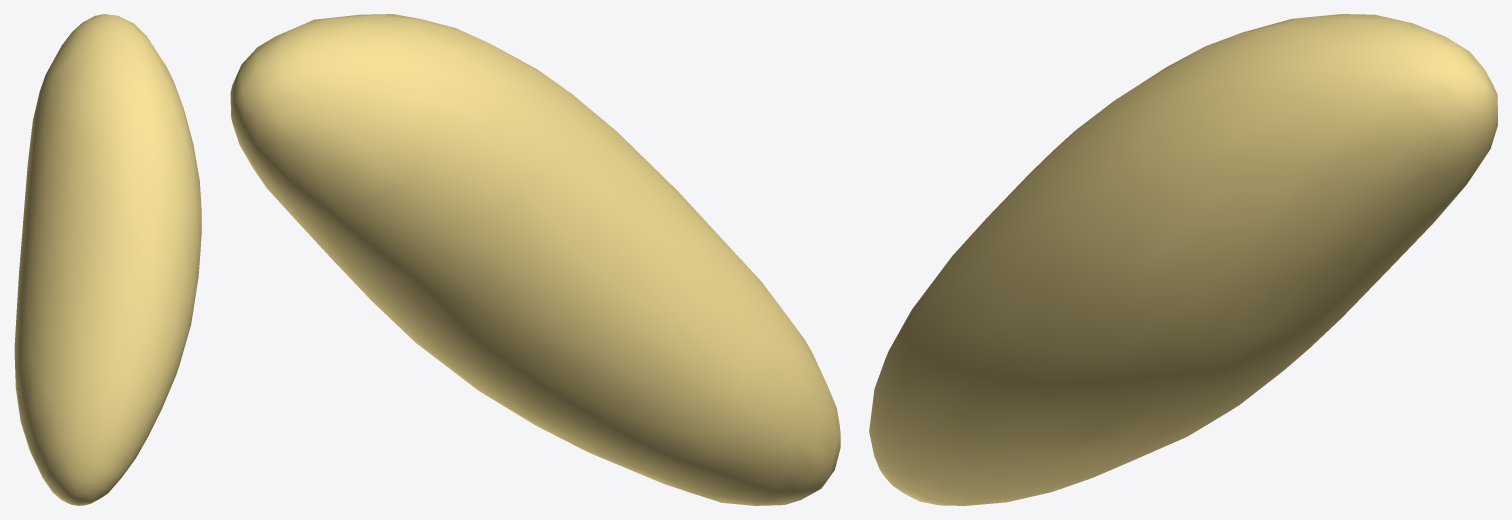
File: fma53476_mm2600m.glb
3 views of the same model, side by side, from view 1: azimuth 30°, elevation 25°; view 2: azimuth 150°, elevation 25°; view 3: azimuth 270°, elevation 25° (orthographic). The views are drawn at different scales.
Visible parts, largest first — view 1: FMA53476_MM2600M; view 2: FMA53476_MM2600M; view 3: FMA53476_MM2600M.
Part boxes in pixels (x1,y1,x2,y2): FMA53476_MM2600M: (14,14,201,505); FMA53476_MM2600M: (230,14,840,505); FMA53476_MM2600M: (869,14,1497,505).
Bounding box in the file's own units: 0.00425 × 0.00597 × 0.00563.
